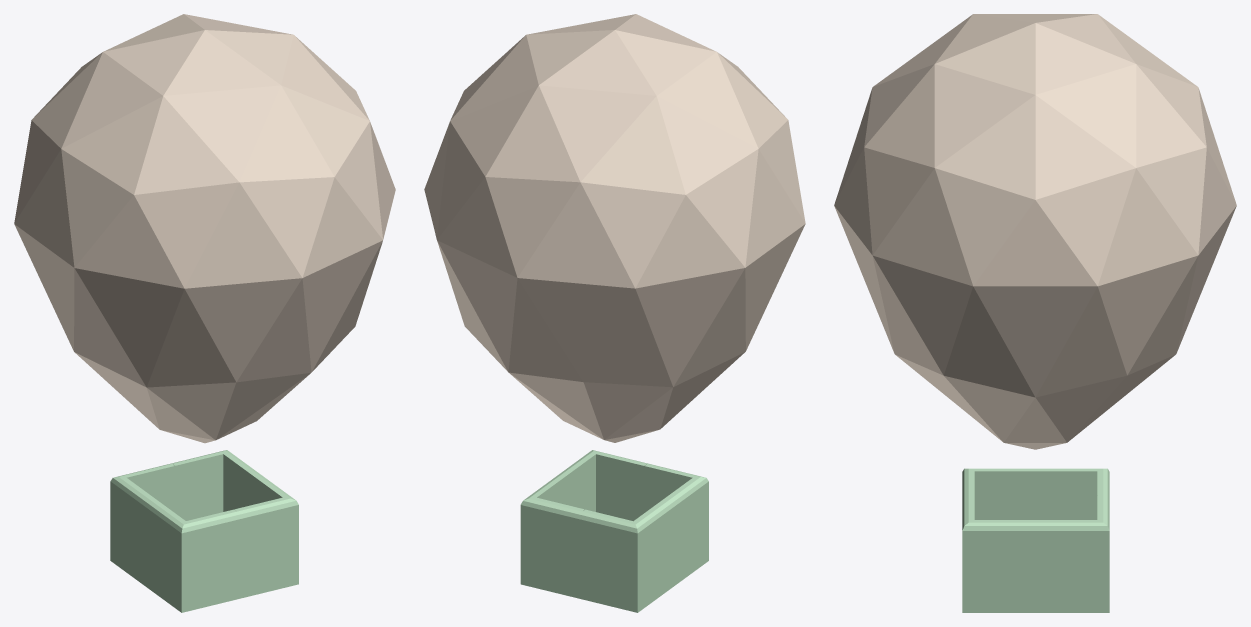
Rendered from Hot Air Baloon.fbx.
3 renders of one model, left to right at view 1: azimuth 30°, elevation 25°; view 2: azimuth 150°, elevation 25°; view 3: azimuth 270°, elevation 25°, orthographic. The views are drawn at different scales.
Visible parts, largest first — view 1: Icosphere, Cube; view 2: Icosphere, Cube; view 3: Icosphere, Cube.
Part boxes in pixels (x1,y1,x2,y2): Icosphere: (14, 14, 395, 443); Cube: (110, 450, 298, 612); Icosphere: (424, 14, 805, 442); Cube: (520, 450, 708, 612); Icosphere: (834, 14, 1236, 449); Cube: (962, 468, 1109, 612).
Size of the model in its own units: 3804 by 6141 by 4000.
